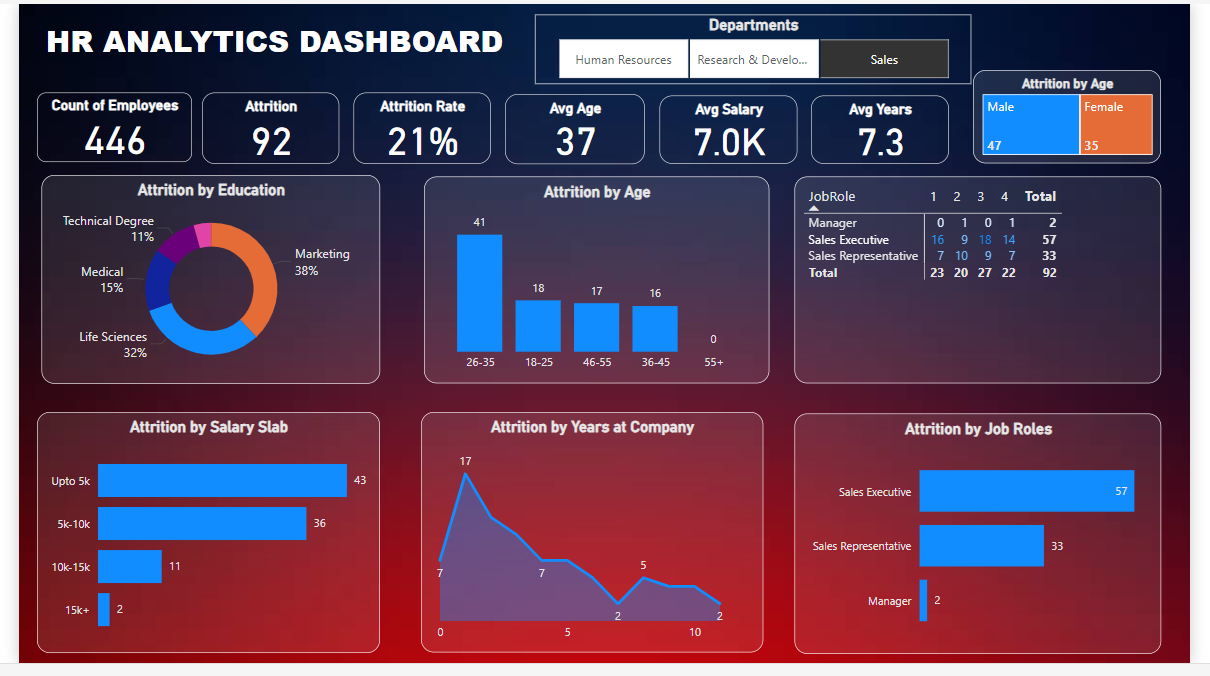

This screenshot's page, from the dashboard's own definition file:
{"tool":"powerbi","page":{"name":"Page 1","canvas":[1280,720],"ordinal":0},"visuals":[{"type":"card","title":"Count of Employees","fields":{"Values":["CountNonNull(HR_Analytics.EmpID)"]},"box":[19.5,97.3,169.3,75.9],"z":0},{"type":"card","title":"Attrition ","fields":{"Values":["Sum(HR_Analytics.AttritionCount)"]},"box":[200.5,97.3,149.9,77.9],"z":1000},{"type":"card","title":"Attrition Rate","fields":{"Values":["HR_Analytics.AttritionRate"]},"box":[365.9,97.3,149.9,77.9],"z":2000},{"type":"card","title":"Avg Age","fields":{"Values":["Avg(HR_Analytics.Age)"]},"box":[530.9,98.2,152.7,76.4],"z":3000},{"type":"card","title":"Avg Salary","fields":{"Values":["Avg(HR_Analytics.MonthlyIncome)"]},"box":[700,100,150.9,74.5],"z":4000},{"type":"card","title":"Avg Years","fields":{"Values":["Avg(HR_Analytics.YearsAtCompany)"]},"box":[865.5,100,150.9,74.5],"z":5000},{"type":"donutChart","title":"Attrition by Education","fields":{"Category":["HR_Analytics.EducationField"],"Y":["Sum(HR_Analytics.AttritionCount)"]},"box":[25.3,186.8,369.8,227.7],"z":6000},{"type":"columnChart","title":"Attrition by Age","fields":{"Category":["HR_Analytics.AgeGroup"],"Y":["Sum(HR_Analytics.AttritionCount)"]},"box":[441.8,188.8,377.6,225.8],"z":7000},{"type":"pivotTable","fields":{"Rows":["HR_Analytics.JobRole"],"Columns":["HR_Analytics.JobSatisfaction"],"Values":["Sum(HR_Analytics.AttritionCount)"]},"box":[846.6,188.8,400.9,225.8],"z":8000},{"type":"barChart","title":"Attrition by Salary Slab","fields":{"Category":["HR_Analytics.SalarySlab"],"Y":["Sum(HR_Analytics.AttritionCount)"]},"box":[20,445.5,374.5,263.6],"z":9000},{"type":"barChart","title":"Attrition by Job Roles","fields":{"Category":["HR_Analytics.JobRole"],"Y":["Sum(HR_Analytics.AttritionCount)"]},"box":[846.6,447.7,400.9,262.8],"z":10000},{"type":"areaChart","title":"Attrition by Years at Company","fields":{"Category":["HR_Analytics.YearsAtCompany"],"Y":["Sum(HR_Analytics.AttritionCount)"]},"box":[439.9,445.7,373.7,262.8],"z":11000},{"type":"treemap","title":"Attrition by Age","fields":{"Group":["HR_Analytics.Gender"],"Values":["Sum(HR_Analytics.AttritionCount)"]},"box":[1041.8,72.7,205.5,101.8],"z":12000},{"type":"slicer","title":"Departments","fields":{"Values":["HR_Analytics.Department"]},"box":[564.4,11.7,476.8,75.9],"z":13000},{"type":"textbox","box":[25.3,11.7,570.3,75.9],"z":14000}]}

Visuals, with their boxes in screenshot pixels (x1, y1, x2, y2), scaled from the page's 1280x720 canvas onto the 1210x676 screenshot:
"Count of Employees" card: [x1=18, y1=91, x2=178, y2=163]
"Attrition " card: [x1=190, y1=91, x2=331, y2=164]
"Attrition Rate" card: [x1=346, y1=91, x2=488, y2=164]
"Avg Age" card: [x1=502, y1=92, x2=646, y2=164]
"Avg Salary" card: [x1=662, y1=94, x2=804, y2=164]
"Avg Years" card: [x1=818, y1=94, x2=961, y2=164]
"Attrition by Education" donutChart: [x1=24, y1=175, x2=373, y2=389]
"Attrition by Age" columnChart: [x1=418, y1=177, x2=775, y2=389]
pivotTable - HR_Analytics.JobRole x HR_Analytics.JobSatisfaction: [x1=800, y1=177, x2=1179, y2=389]
"Attrition by Salary Slab" barChart: [x1=19, y1=418, x2=373, y2=666]
"Attrition by Job Roles" barChart: [x1=800, y1=420, x2=1179, y2=667]
"Attrition by Years at Company" areaChart: [x1=416, y1=418, x2=769, y2=665]
"Attrition by Age" treemap: [x1=985, y1=68, x2=1179, y2=164]
"Departments" slicer: [x1=534, y1=11, x2=984, y2=82]
textbox: [x1=24, y1=11, x2=563, y2=82]
